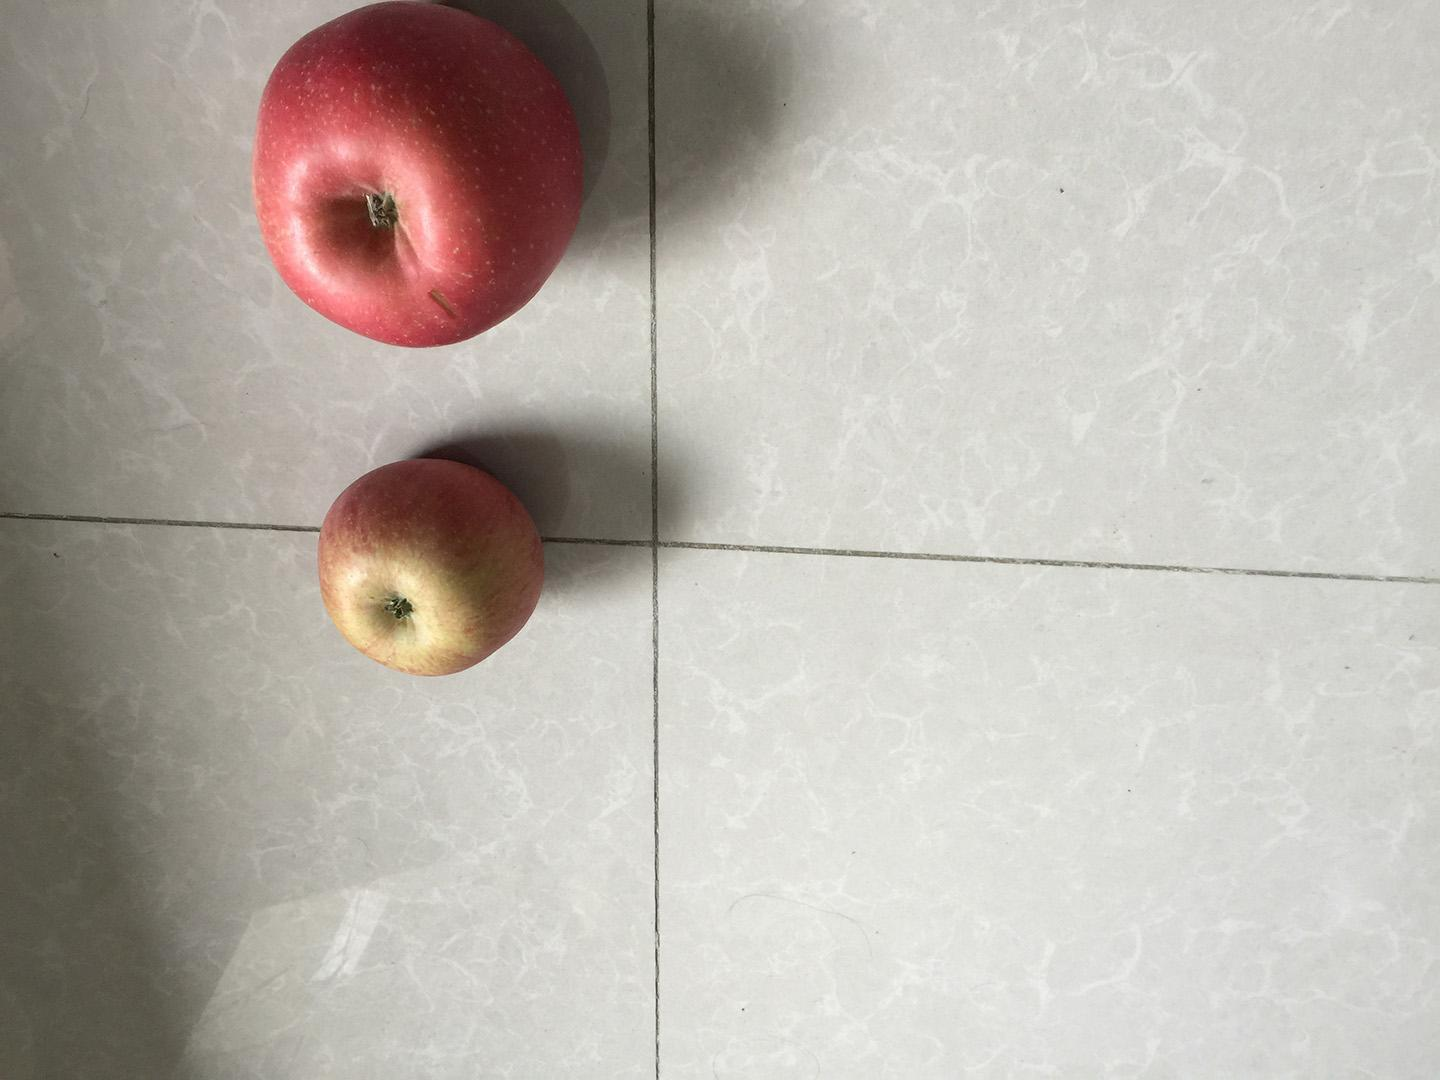apple: (245, 1, 587, 357), (315, 447, 551, 684)
